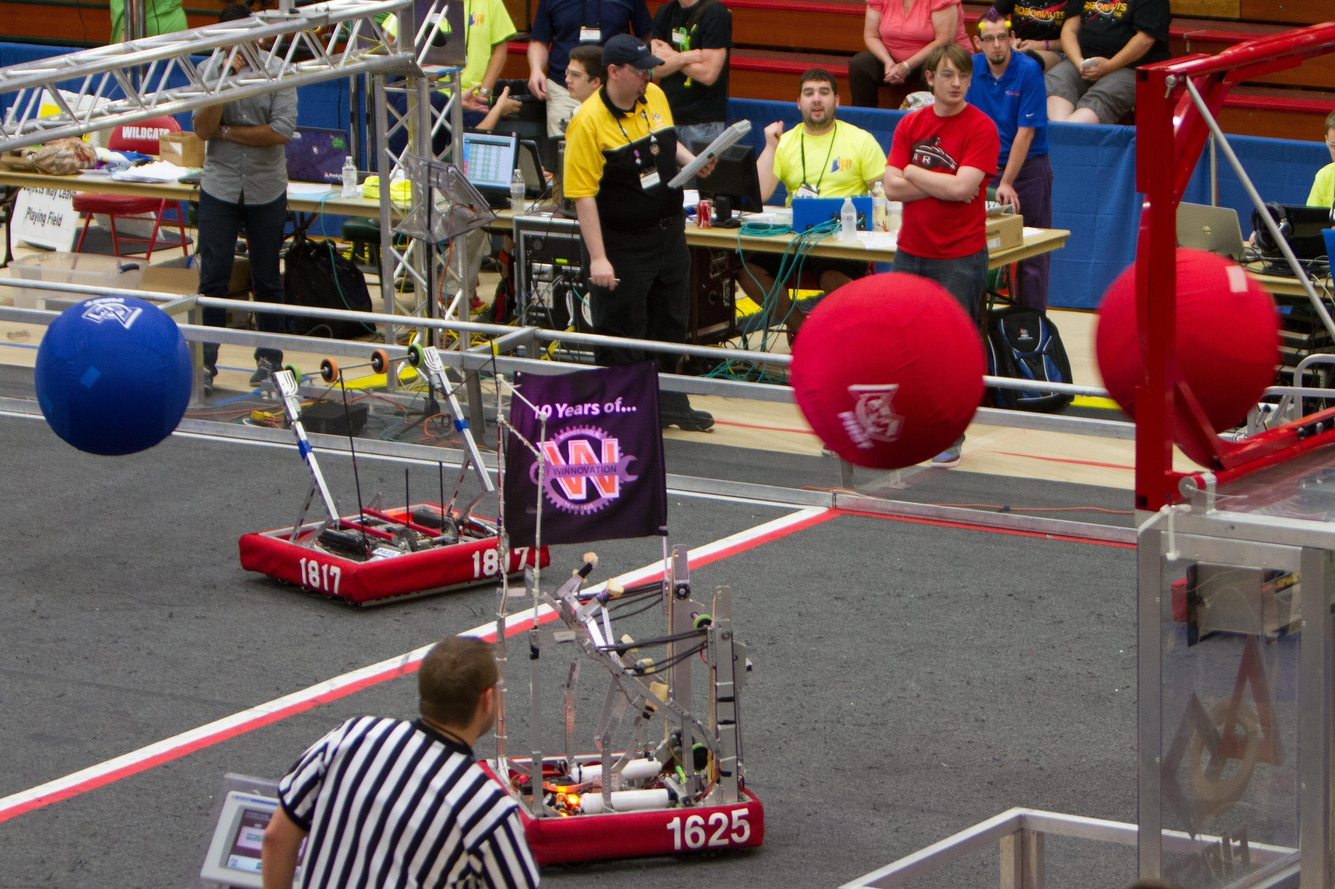robot: (472, 376, 768, 879), (235, 334, 556, 606)
